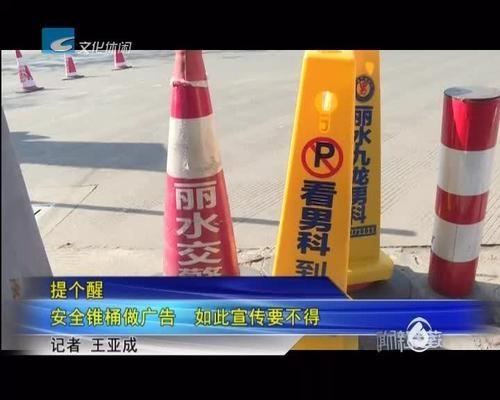cone_barrel: (270, 50, 356, 300), (155, 55, 245, 281), (420, 82, 498, 300), (14, 56, 42, 92), (60, 54, 83, 79), (111, 45, 126, 69)
